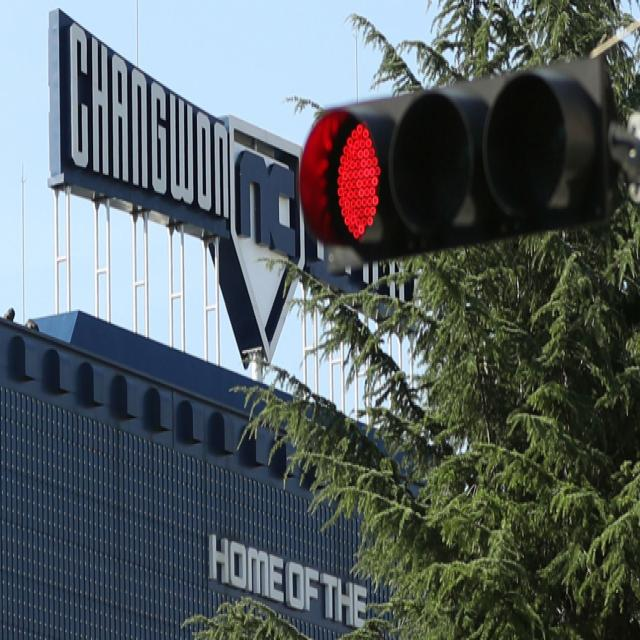red_light: (300, 92, 594, 256)
